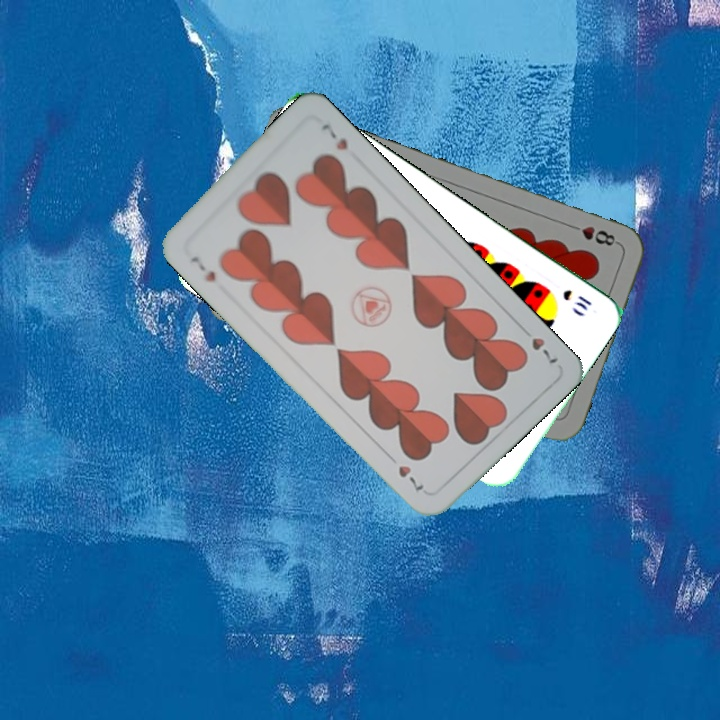H7: (527, 333, 561, 366), (186, 252, 219, 285)
H8: (564, 220, 622, 249)
S10: (558, 285, 594, 314)
